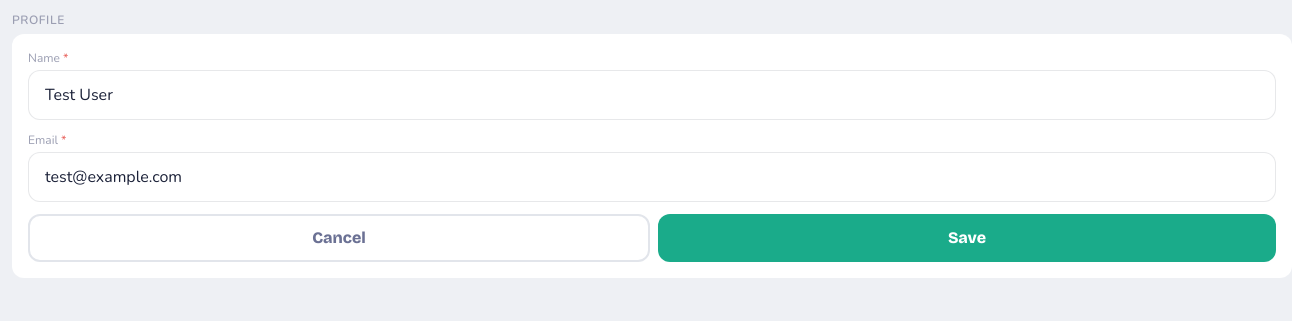
Test case: ProfileSection › clears name error when name is filled back in
Clear the field showing "Test User" at (652, 95), box [28, 70, 1276, 120]
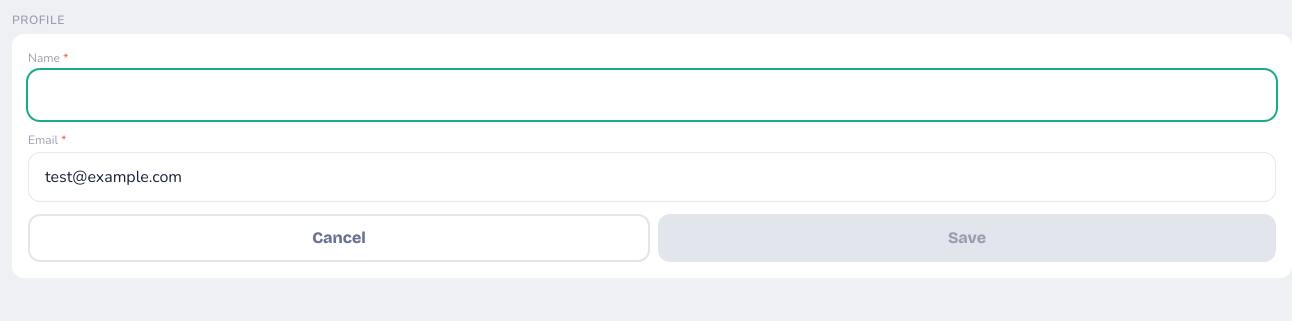
Press Tab
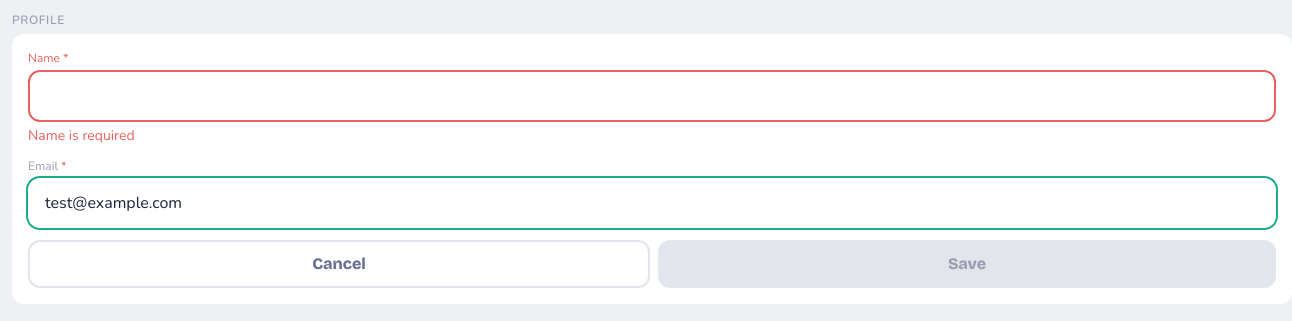
Expected: the text "Name is required" is shown, [28, 126, 135, 145]
Type "New Name" into the field showing "Test User".
click(652, 96); type("New Name")  # box [28, 70, 1276, 122]
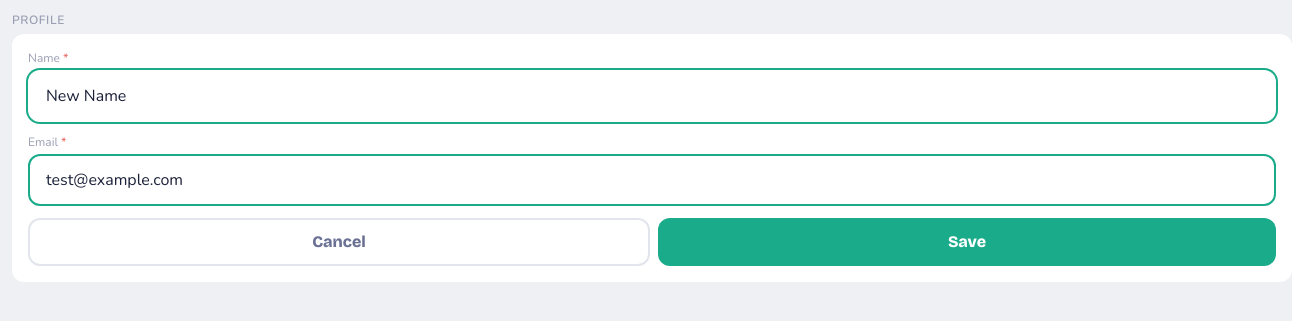
Expected: the text "Name is required" is gone
